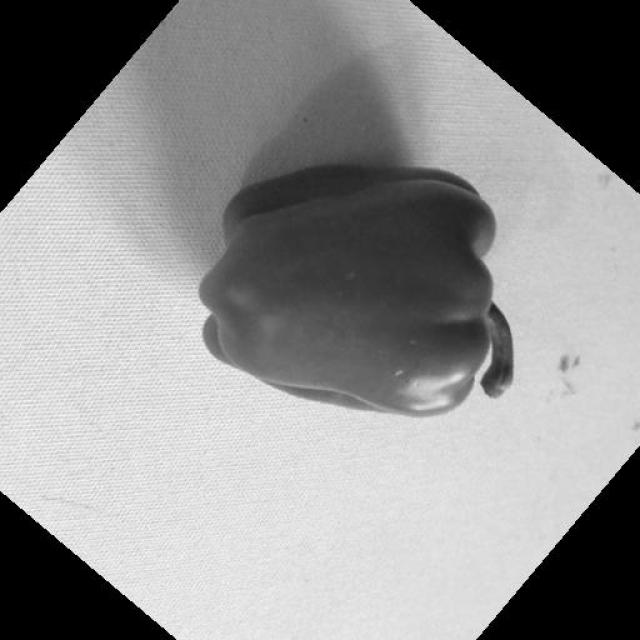Fresh_Capsicum: (235, 184, 500, 416)
